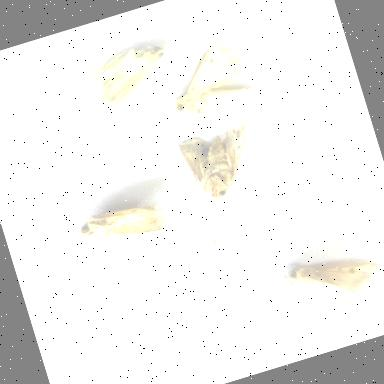abw: (150, 110, 272, 216), (147, 22, 266, 128), (273, 231, 384, 336), (67, 31, 184, 121), (68, 190, 178, 260)
